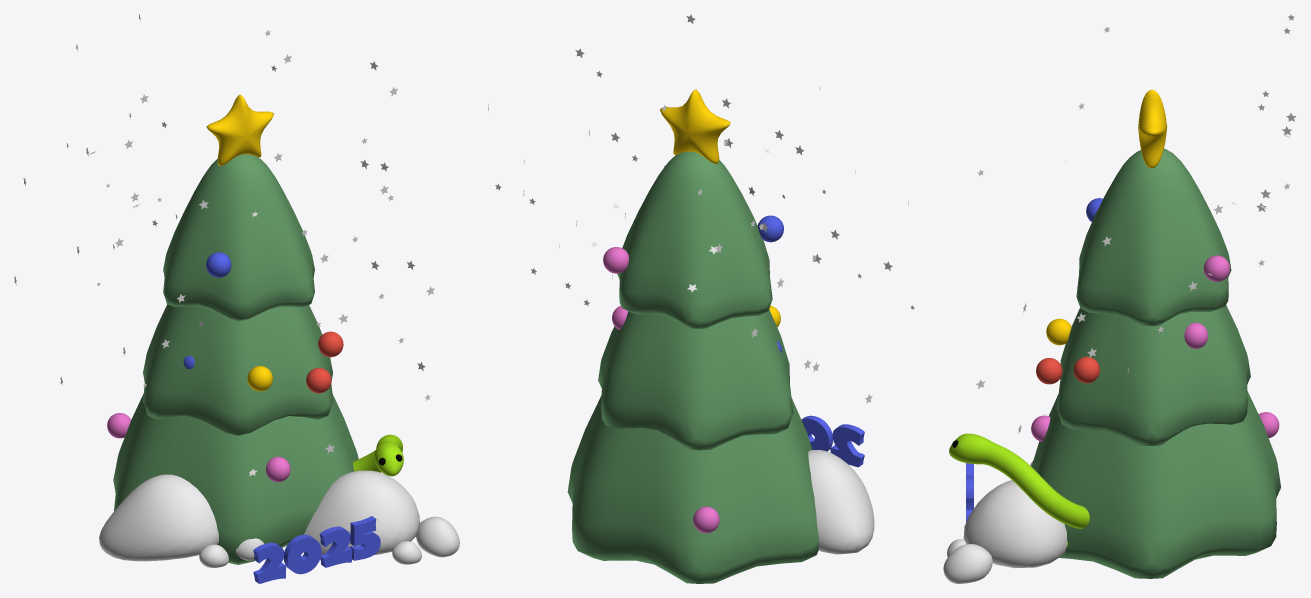
The picture shows the model from 3 angles, left to right: view 1: azimuth 30°, elevation 25°; view 2: azimuth 150°, elevation 25°; view 3: azimuth 270°, elevation 25°; orthographic projection. The views are drawn at different scales.
Parts seen in each view (by area): view 1: Cylinder.002, Cylinder.001, Cylinder.003, Sphere.018, Sphere.004, Text, Zvezda, Zmeya; view 2: Cylinder.002, Cylinder.001, Cylinder.003, Sphere.018, Zvezda, Text, Sphere.009, Sphere.011; view 3: Cylinder.002, Cylinder.001, Cylinder.003, Sphere.004, Zmeya, Zvezda, Sphere.011, Sphere.006, Sphere.003, Sphere.002, Sphere.010.
Part boxes in pixels (box(x1,y1,x2,y2)): Cylinder.002: box(113, 393, 358, 564); Cylinder.001: box(143, 304, 332, 435); Cylinder.003: box(163, 154, 314, 321); Sphere.018: box(99, 474, 263, 567); Sphere.004: box(304, 470, 459, 564); Text: box(253, 516, 380, 583); Zvezda: box(206, 94, 273, 165); Zmeya: box(353, 434, 403, 476); Cylinder.002: box(567, 395, 818, 583); Cylinder.001: box(598, 309, 793, 450); Cylinder.003: box(617, 151, 772, 328); Sphere.018: box(808, 450, 874, 554); Zvezda: box(660, 89, 730, 163); Text: box(801, 415, 864, 467); Sphere.009: box(693, 506, 719, 533); Sphere.011: box(603, 247, 628, 273); Cylinder.002: box(1031, 391, 1280, 578); Cylinder.001: box(1057, 305, 1250, 445); Cylinder.003: box(1076, 148, 1231, 325); Sphere.004: box(943, 480, 1067, 583); Zmeya: box(949, 433, 1089, 545); Zvezda: box(1138, 89, 1167, 168); Sphere.011: box(1203, 255, 1230, 281); Sphere.006: box(1073, 356, 1099, 383); Sphere.003: box(1036, 358, 1062, 384); Sphere.002: box(1046, 318, 1071, 345); Sphere.010: box(1184, 322, 1208, 348).
Bounding box in the file's own units: 1.54 × 2.04 × 1.33.
